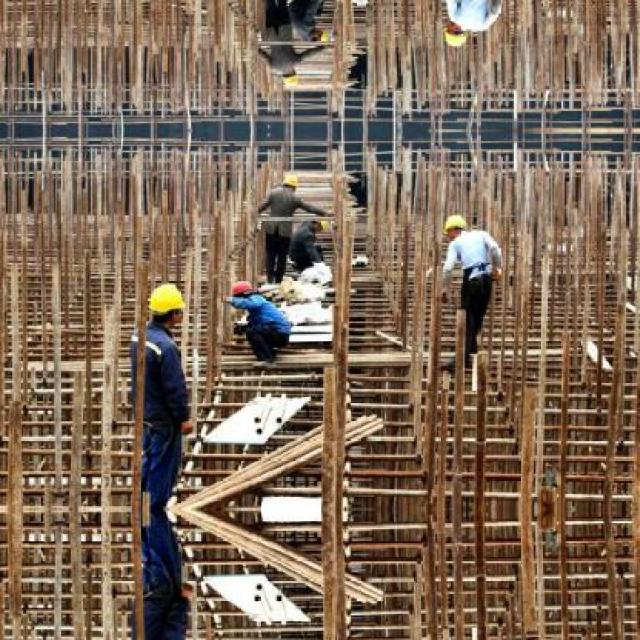helmet: (147, 280, 185, 329), (227, 278, 256, 300), (442, 210, 466, 236), (442, 22, 466, 48), (280, 69, 298, 91), (310, 212, 330, 231), (280, 168, 298, 189), (310, 28, 330, 46)
